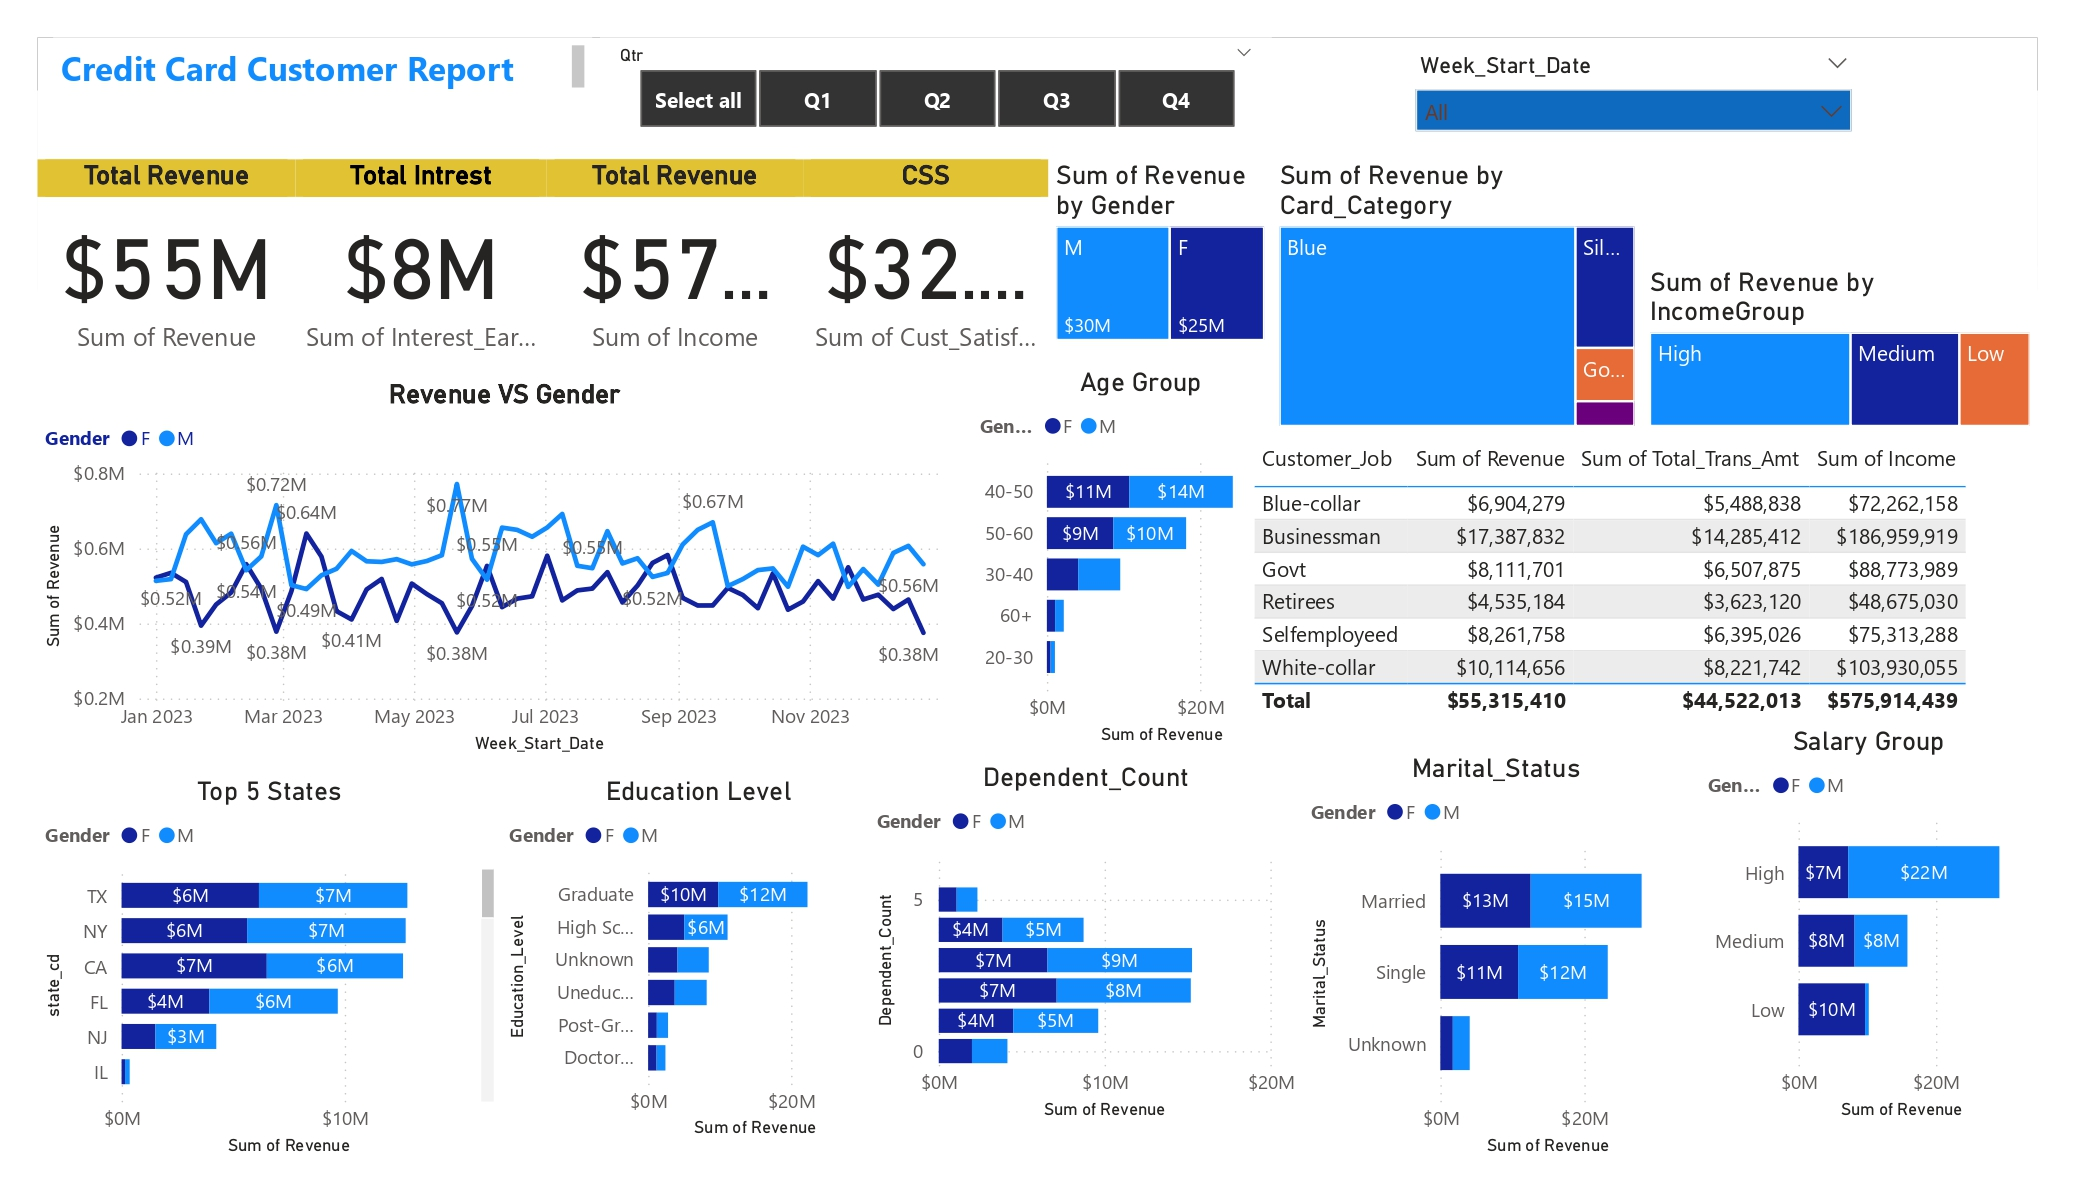

Layout of this report page (visuals, bound fields, positions):
{"tool":"powerbi","page":{"name":"Customer","canvas":[1280,720],"ordinal":1},"visuals":[{"type":"textbox","box":[9.8,0,344.8,45.2],"z":0},{"type":"card","title":"Total Revenue","fields":{"Values":["Sum(Public cc-detail.Revenue)"]},"box":[0,78.3,165.1,129.6],"z":1000},{"type":"card","title":"Total Intrest","fields":{"Values":["Sum(Public cc-detail.Interest_Earned)"]},"box":[165.1,78.3,161.4,129.6],"z":2000},{"type":"card","title":"Total Revenue","fields":{"Values":["Sum(Public cust-detail.Income)"]},"box":[326.5,78.3,163.9,129.6],"z":3000},{"type":"barChart","title":"Top 5 States","fields":{"Category":["Public cust-detail.state_cd"],"Y":["Sum(Public cc-detail.Revenue)"],"Series":["Public cust-detail.Gender"]},"box":[0,472,297.1,248.2],"z":4000},{"type":"barChart","title":"Education Level","fields":{"Category":["Public cust-detail.Education_Level"],"Y":["Sum(Public cc-detail.Revenue)"],"Series":["Public cust-detail.Gender"]},"box":[297.1,472,251.9,237.2],"z":5000},{"type":"barChart","title":"Dependent_Count","fields":{"Series":["Public cust-detail.Gender"],"Category":["Public cust-detail.Dependent_Count"],"Y":["Sum(Public cc-detail.Revenue)"]},"box":[531.9,463.5,277.6,233.6],"z":6000},{"type":"barChart","title":" Marital_Status ","fields":{"Category":["Public cust-detail.Marital_Status"],"Y":["Sum(Public cc-detail.Revenue)"],"Series":["Public cust-detail.Gender"]},"box":[809.5,457.3,247,262.9],"z":7000},{"type":"barChart","title":"Salary Group","fields":{"Category":["Public cust-detail.IncomeGroup"],"Y":["Sum(Public cc-detail.Revenue)"],"Series":["Public cust-detail.Gender"]},"box":[1063.9,440.2,216.4,256.8],"z":8000},{"type":"card","title":"CSS","fields":{"Values":["Sum(Public cust-detail.Cust_Satisfaction_Score)"]},"box":[490.4,78.3,156.5,129.6],"z":9000},{"type":"barChart","title":" Age Group","fields":{"Category":["Public cust-detail.AgeGroup"],"Y":["Sum(Public cc-detail.Revenue)"],"Series":["Public cust-detail.Gender"]},"box":[598,210.3,216.4,247],"z":10000},{"type":"lineChart","title":"Revenue VS Gender","fields":{"Y":["Sum(Public cc-detail.Revenue)"],"Series":["Public cust-detail.Gender"],"Category":["Public cc-detail.Week_Start_Date"]},"box":[0,217.7,598,245.8],"z":11000},{"type":"tableEx","fields":{"Values":["Public cust-detail.Customer_Job","Sum(Public cc-detail.Revenue)","Sum(Public cc-detail.Total_Trans_Amt)","Sum(Public cust-detail.Income)"]},"box":[772.8,254.3,507.5,185.9],"z":12000},{"type":"treemap","fields":{"Values":["Sum(Public cc-detail.Revenue)"],"Group":["Public cust-detail.Gender"]},"box":[646.9,78.3,143.1,121.1],"z":13000},{"type":"treemap","fields":{"Values":["Sum(Public cc-detail.Revenue)"],"Group":["Public cust-detail.IncomeGroup"]},"box":[1027.2,145.5,253.1,108.8],"z":14000},{"type":"treemap","fields":{"Values":["Sum(Public cc-detail.Revenue)"],"Group":["Public cc-detail.Card_Category"]},"box":[789.9,78.3,237.2,176.1],"z":15000},{"type":"slicer","fields":{"Values":["Public cc-detail.Qtr"]},"box":[359.5,0,430.4,63.6],"z":16000},{"type":"slicer","fields":{"Values":["Public cc-detail.Week_Start_Date"]},"box":[871.9,4.9,299.6,58.7],"z":17000}]}

Visuals, with their boxes on the page's 1280x720 design canvas (x1, y1, x2, y2). These are canvas units, not pixel positions in the 2075x1200 screenshot, which may show the page scaled, cropped or inside an application window:
textbox: (10,0,355,45)
"Total Revenue" card: (0,78,165,208)
"Total Intrest" card: (165,78,326,208)
"Total Revenue" card: (326,78,490,208)
"Top 5 States" barChart: (0,472,297,720)
"Education Level" barChart: (297,472,549,709)
"Dependent_Count" barChart: (532,464,810,697)
" Marital_Status " barChart: (810,457,1056,720)
"Salary Group" barChart: (1064,440,1280,697)
"CSS" card: (490,78,647,208)
" Age Group" barChart: (598,210,814,457)
"Revenue VS Gender" lineChart: (0,218,598,464)
tableEx - Public cust-detail.Customer_Job x Sum(Public cc-detail.Revenue): (773,254,1280,440)
treemap - Sum(Public cc-detail.Revenue) x Public cust-detail.Gender: (647,78,790,199)
treemap - Sum(Public cc-detail.Revenue) x Public cust-detail.IncomeGroup: (1027,146,1280,254)
treemap - Sum(Public cc-detail.Revenue) x Public cc-detail.Card_Category: (790,78,1027,254)
slicer - Public cc-detail.Qtr: (360,0,790,64)
slicer - Public cc-detail.Week_Start_Date: (872,5,1172,64)
